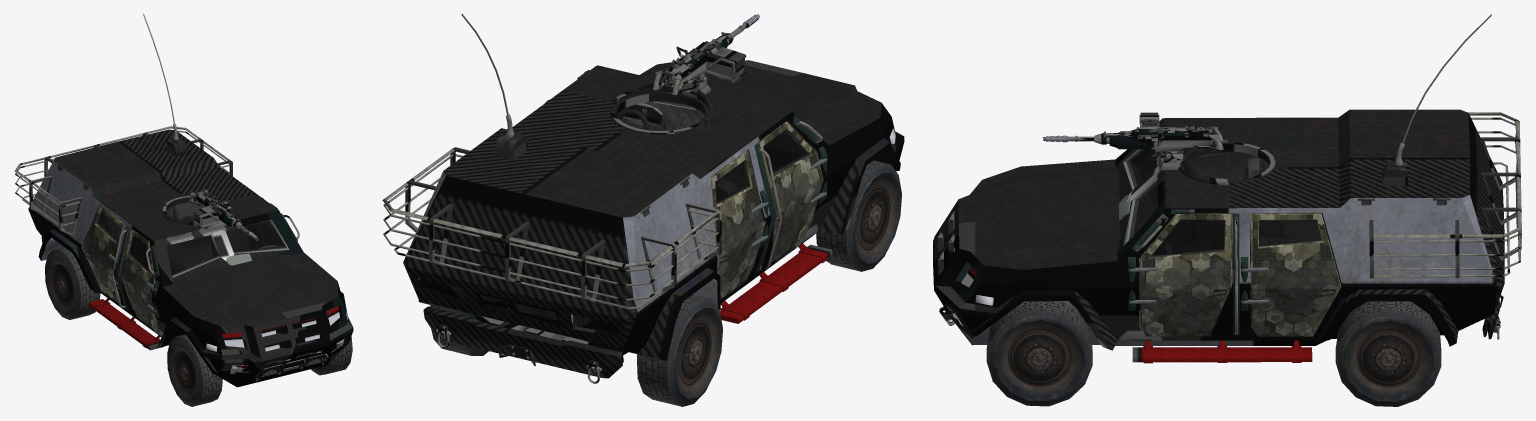
File: PoliceCar_1.FBX
The picture shows the model from 3 angles, left to right: view 1: azimuth 30°, elevation 25°; view 2: azimuth 150°, elevation 25°; view 3: azimuth 270°, elevation 25°; orthographic projection. The views are drawn at different scales.
Parts seen in each view (by area): view 1: Body, Wheel_FR, Wheel_BR, Door_FR, Door_BR, Gun, Wheel_FL, Door_FL; view 2: Body, Wheel_BR, Wheel_FR, Door_FR, Door_BR, Gun, Wheel_BL; view 3: Body, Door_FL, Door_BL, Wheel_BL, Wheel_FL, Gun, Door_FR, Door_BR.
Boxes of the visible parts, bbox=[...] form: Body: bbox=[14, 14, 353, 387]; Wheel_FR: bbox=[167, 334, 222, 406]; Wheel_BR: bbox=[45, 247, 100, 319]; Door_FR: bbox=[119, 228, 159, 332]; Door_BR: bbox=[82, 206, 123, 303]; Gun: bbox=[189, 189, 259, 240]; Wheel_FL: bbox=[311, 336, 352, 375]; Door_FL: bbox=[260, 221, 284, 245]; Body: bbox=[382, 14, 904, 383]; Wheel_BR: bbox=[637, 294, 722, 406]; Wheel_FR: bbox=[816, 160, 901, 271]; Door_FR: bbox=[758, 121, 827, 262]; Door_BR: bbox=[710, 150, 768, 299]; Gun: bbox=[652, 14, 759, 95]; Wheel_BL: bbox=[430, 305, 488, 355]; Body: bbox=[933, 14, 1521, 363]; Door_FL: bbox=[1128, 213, 1231, 336]; Door_BL: bbox=[1241, 213, 1341, 336]; Wheel_BL: bbox=[1335, 301, 1441, 406]; Wheel_FL: bbox=[986, 301, 1092, 406]; Gun: bbox=[1043, 112, 1223, 152]; Door_FR: bbox=[1138, 149, 1229, 240]; Door_BR: bbox=[1249, 154, 1315, 237].
Size of the model in its own units: 71.78 by 98.5 by 144.
